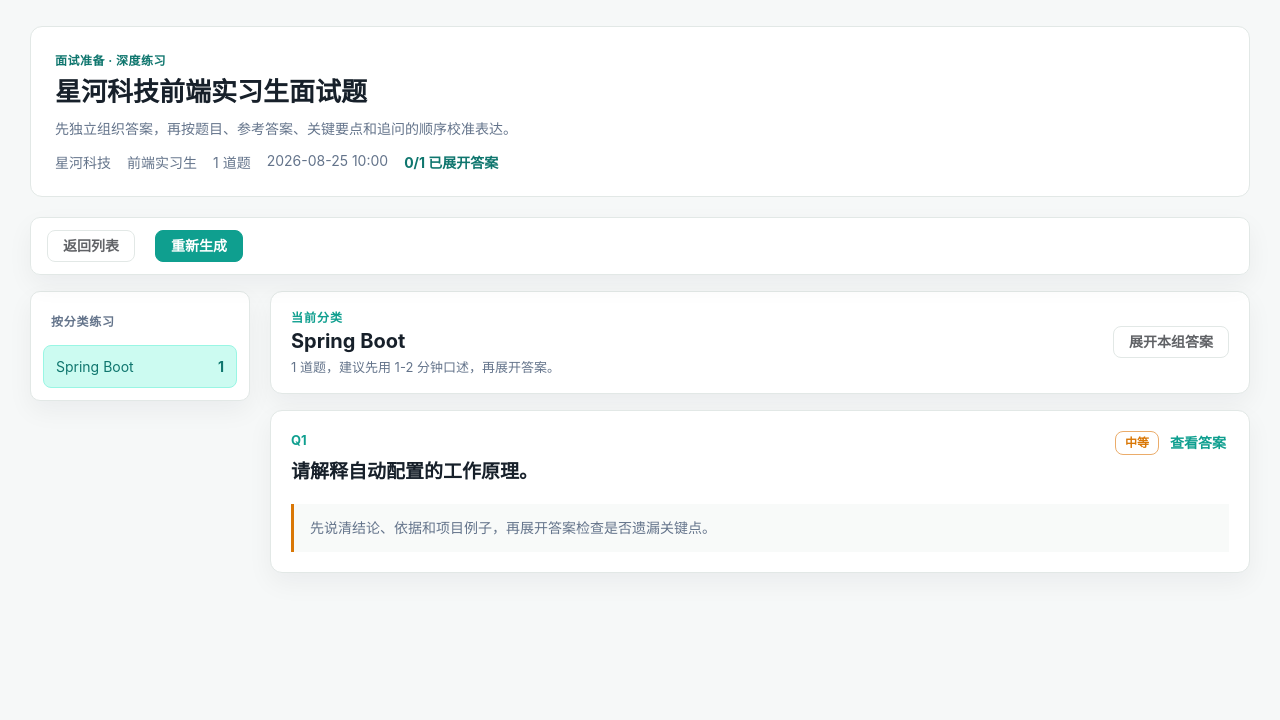
interview question detail legacy contracts › uses the numeric route id and preserves question, answer, key-point, follow-up and keyword data
This screenshot has width=1280, height=720.
What coordinates should you click on to do the following:
click the button "查看答案"
I would click on:
 (1198, 443)
Its box is [1167,433,1229,453].
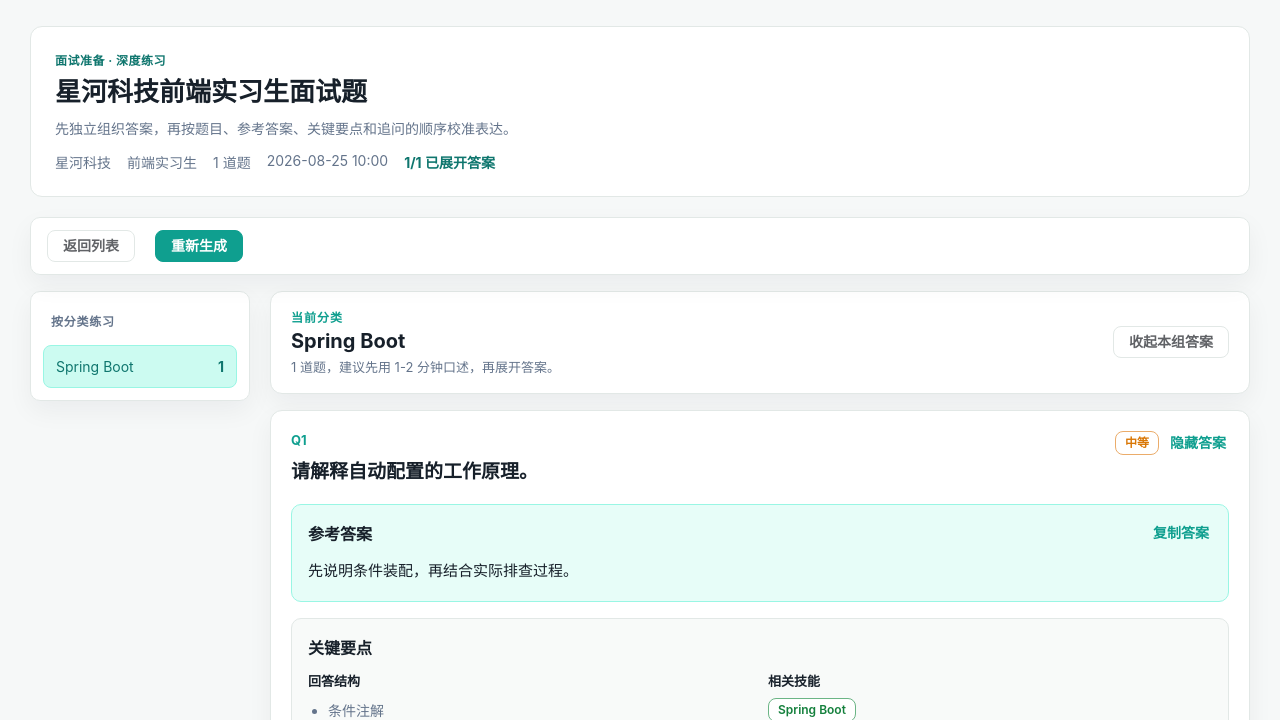
expect the text "Spring Boot" is shown: met, box [56,358,134,375]
expect the text "先说明条件装配，再结合实际排查过程。" is shown: met, box [308,561,578,580]
expect the text "条件注解" is shown: met, box [328,702,384,719]
